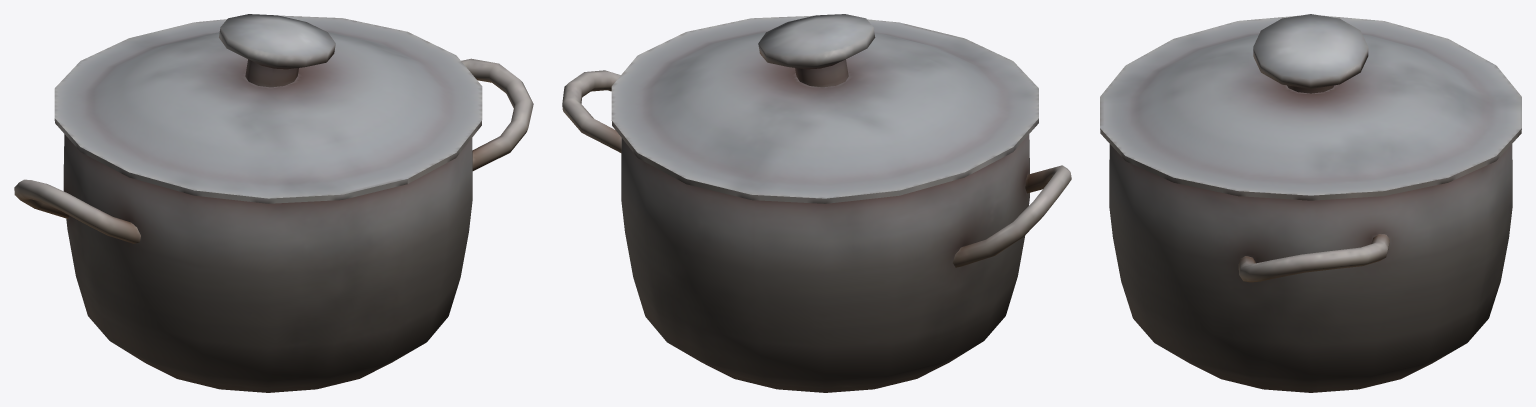
The model's file is Pan01.FBX.
3 renders of one model, left to right at view 1: azimuth 30°, elevation 25°; view 2: azimuth 150°, elevation 25°; view 3: azimuth 270°, elevation 25°, orthographic.
Parts seen in each view (by area): view 1: Pan01; view 2: Pan01; view 3: Pan01.
Boxes of the visible parts, <box> form: Pan01: <box>14,14,533,392</box>; Pan01: <box>562,14,1071,392</box>; Pan01: <box>1100,14,1521,392</box>.
Size of what is drawn, in the model's own units: 0.4319 by 0.2605 by 0.3301.
